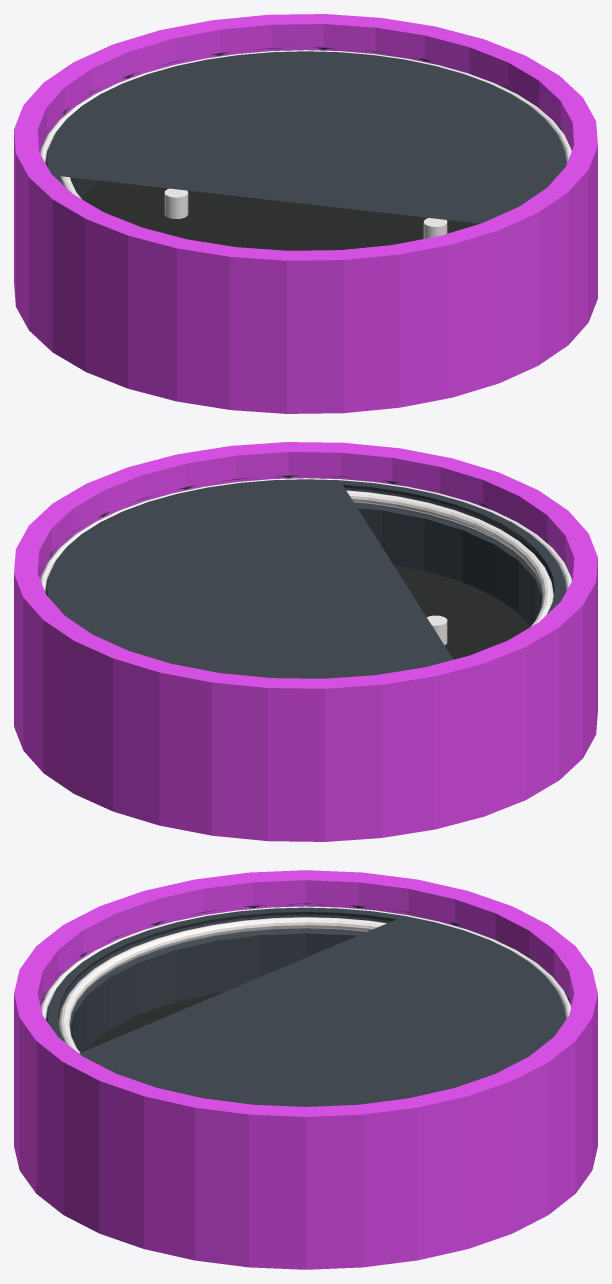
Rendered from Arena.fbx.
The picture shows the model from 3 angles, top to bottom: view 1: azimuth 30°, elevation 25°; view 2: azimuth 150°, elevation 25°; view 3: azimuth 270°, elevation 25°; orthographic projection.
Visible parts, largest first — view 1: OuterWall, InnerWall, Floor, OuterRingLight, Pillar3; view 2: OuterWall, InnerWall, Floor, InnerRingLight, OuterRingLight; view 3: OuterWall, InnerWall, InnerRingLight, OuterRingLight, Floor.
Boxes of the visible parts, x1,y1,x2,y2 form: OuterWall: [14, 14, 597, 413]; InnerWall: [39, 47, 572, 223]; Floor: [81, 180, 479, 250]; OuterRingLight: [40, 50, 571, 163]; Pillar3: [164, 188, 188, 218]; OuterWall: [14, 442, 597, 841]; InnerWall: [39, 475, 572, 678]; Floor: [393, 564, 530, 659]; InnerRingLight: [346, 490, 553, 627]; OuterRingLight: [40, 478, 571, 591]; OuterWall: [14, 870, 597, 1269]; InnerWall: [41, 903, 570, 1106]; InnerRingLight: [58, 917, 386, 1053]; OuterRingLight: [41, 906, 570, 1019]; Floor: [84, 992, 223, 1051].
Size of the model in its own units: 41.57 by 41.57 by 12.01.
